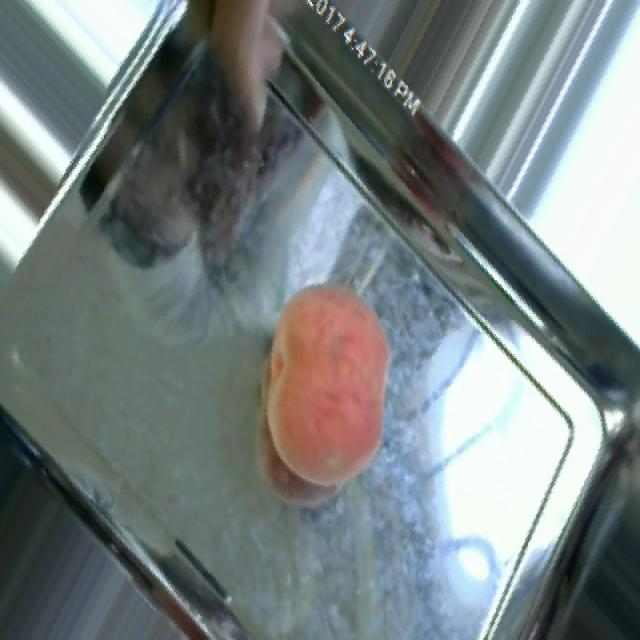Fruit: (228, 268, 419, 511)
